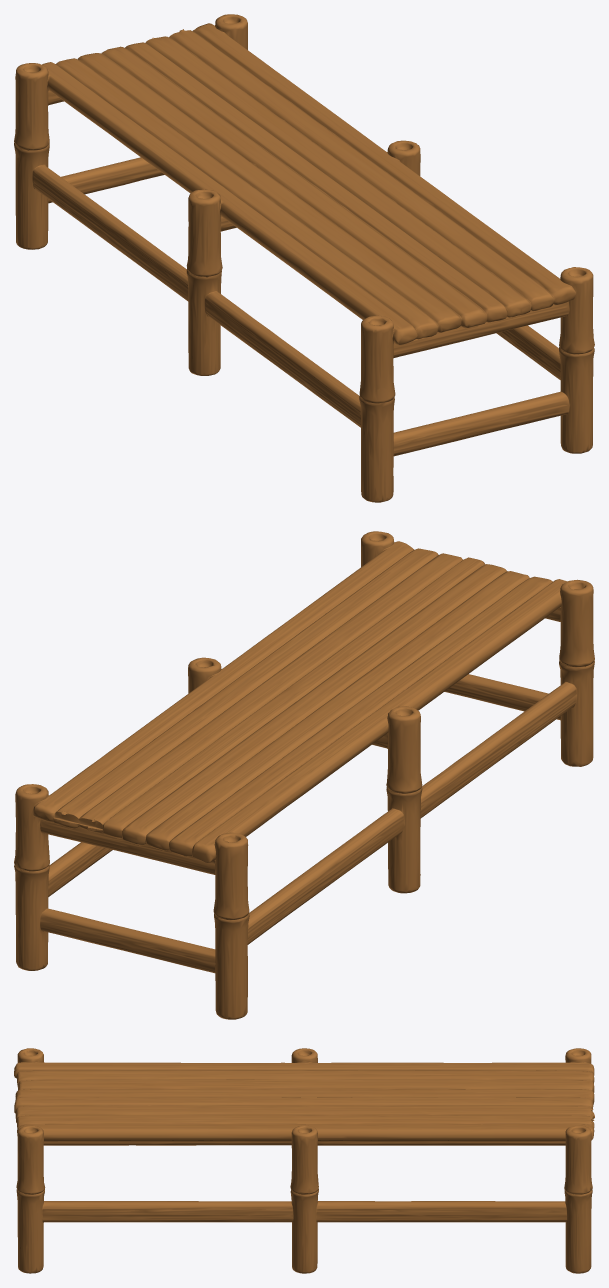
The model's file is sap-thap.082367e7.glb.
3 renders of one model, top to bottom at view 1: azimuth 30°, elevation 25°; view 2: azimuth 150°, elevation 25°; view 3: azimuth 270°, elevation 25°, orthographic. The views are drawn at different scales.
Visible parts, largest first — view 1: tripo_node_d542632d-55fe-40aa-a39c-4f9fd28a59b9; view 2: tripo_node_d542632d-55fe-40aa-a39c-4f9fd28a59b9; view 3: tripo_node_d542632d-55fe-40aa-a39c-4f9fd28a59b9.
Boxes of the visible parts, box(x1,y1,x2,y2) form: tripo_node_d542632d-55fe-40aa-a39c-4f9fd28a59b9: box(14, 14, 594, 502); tripo_node_d542632d-55fe-40aa-a39c-4f9fd28a59b9: box(14, 531, 594, 1019); tripo_node_d542632d-55fe-40aa-a39c-4f9fd28a59b9: box(14, 1048, 594, 1273).
Bounding box in the file's own units: 0.3576 × 0.2605 × 0.9825.
